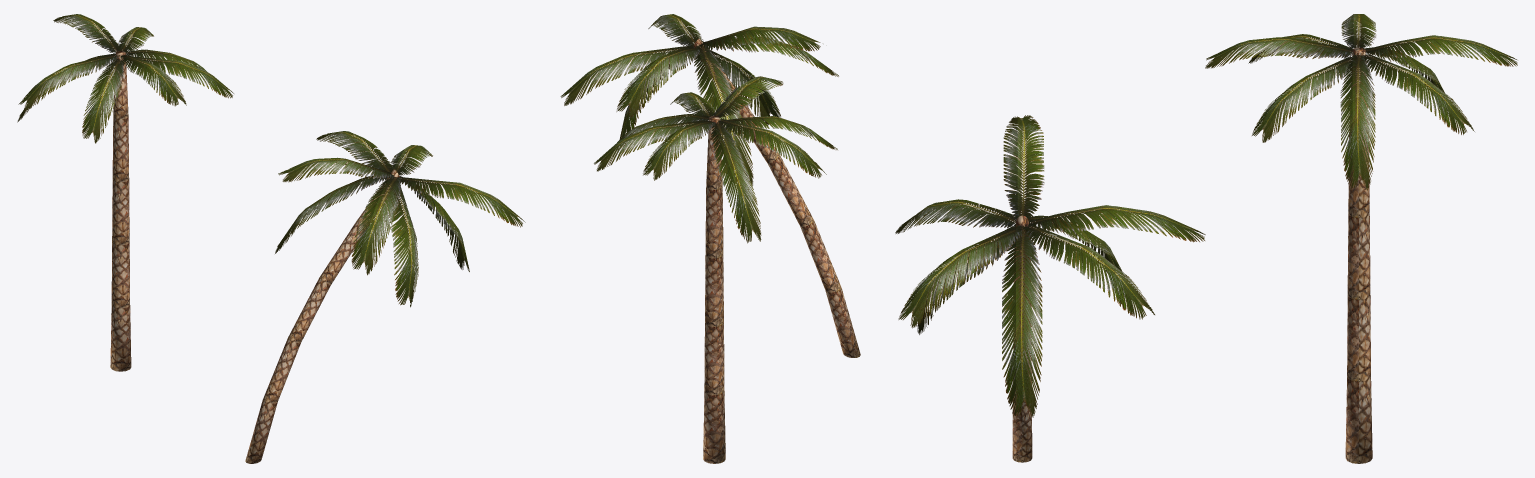
Rendered from PalmTrees.fbx.
3 views of the same model, side by side, from view 1: azimuth 30°, elevation 25°; view 2: azimuth 150°, elevation 25°; view 3: azimuth 270°, elevation 25° (orthographic). The views are drawn at different scales.
Visible parts, largest first — view 1: PalmLeaves3, PalmLeaves2, PalmTrunk2, PalmTrunk3; view 2: PalmLeaves3, PalmLeaves2, PalmTrunk2, PalmTrunk3; view 3: PalmLeaves3, PalmLeaves2, PalmTrunk2, PalmTrunk3.
Part boxes in pixels (x1=…): PalmLeaves3: x1=275, y1=131, x2=525, y2=307; PalmLeaves2: x1=17, y1=14, x2=233, y2=143; PalmTrunk2: x1=110, y1=51, x2=131, y2=371; PalmTrunk3: x1=245, y1=169, x2=399, y2=463; PalmLeaves3: x1=560, y1=14, x2=838, y2=185; PalmLeaves2: x1=594, y1=76, x2=837, y2=243; PalmTrunk2: x1=703, y1=116, x2=725, y2=463; PalmTrunk3: x1=693, y1=38, x2=860, y2=357; PalmLeaves3: x1=895, y1=115, x2=1205, y2=417; PalmLeaves2: x1=1205, y1=14, x2=1517, y2=190; PalmTrunk2: x1=1345, y1=47, x2=1372, y2=463; PalmTrunk3: x1=1012, y1=215, x2=1032, y2=462.
Size of the model in its own units: 7.14 by 6.55 by 8.92.
Materials: 2 (2 with a texture image).
